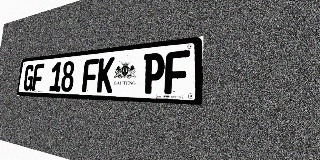1: (49, 62, 63, 92)
8: (60, 61, 75, 92)
F: (164, 50, 190, 95), (82, 58, 99, 92), (32, 63, 44, 91)
G: (23, 64, 35, 91)
K: (96, 57, 115, 93)
P: (142, 52, 165, 94)
